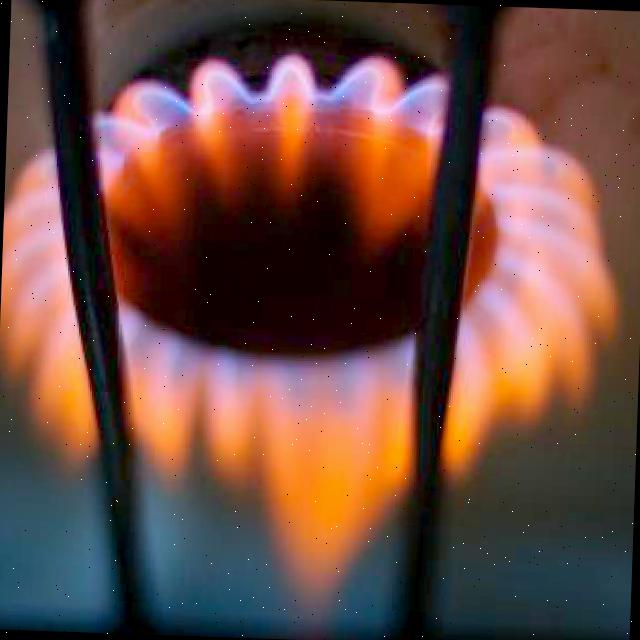fire: (0, 49, 622, 591)
